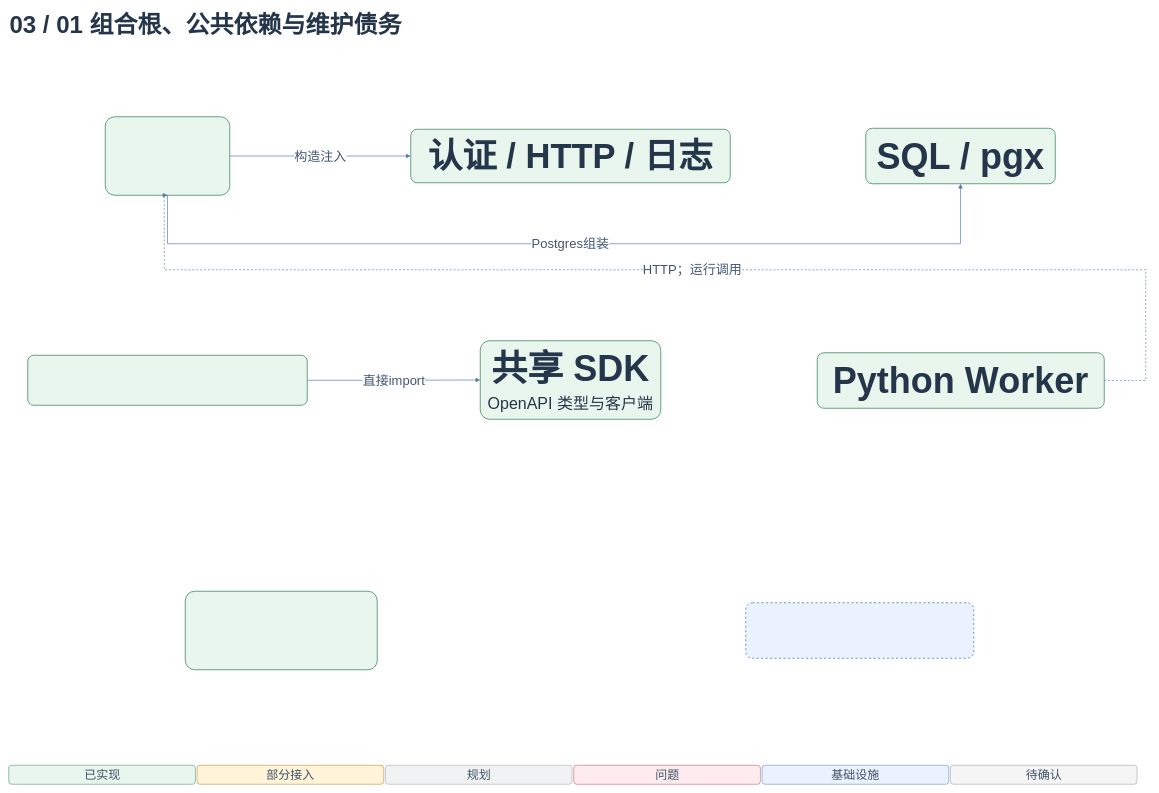
Image size: 1159x793. Some labels were removed from this diagram. The centre of each missing label's shape, as x and y in pixels:
server 组合根: point (167, 155)
Web / 学生 / 桌面: point (167, 380)
按能力拆分 Store / 页面 / Hook: point (281, 630)
架构边界门禁: point (859, 630)
